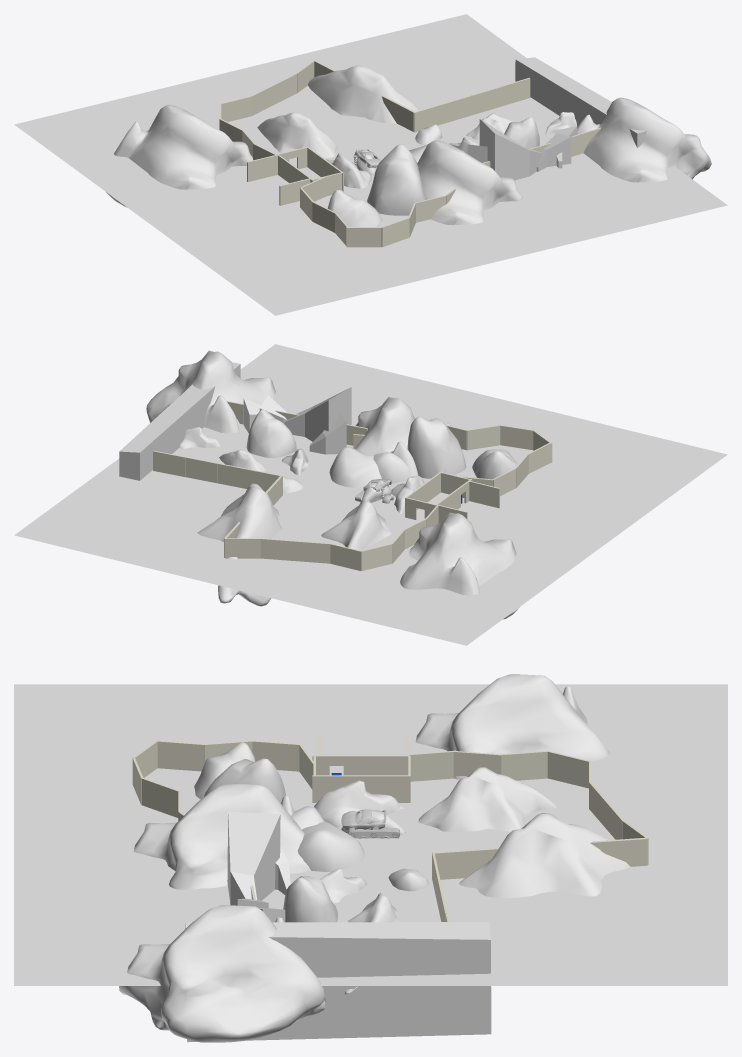
Rendered from MapBlockout.fbx.
3 renders of one model, top to bottom at view 1: azimuth 30°, elevation 25°; view 2: azimuth 150°, elevation 25°; view 3: azimuth 270°, elevation 25°, orthographic. The views are drawn at different scales.
Parts seen in each view (by area): view 1: FLOOR, Cube.025, Cube.007, Cube.016, Cube.020, Cube.012, Cube.023, Cube.024, Cube.009, Cube.018, Cube.013, Wall_400x316 (+15 smaller); view 2: FLOOR, Cube.025, Cube.007, Cube.012, Cube.020, Cube.016, Cube.023, Cube.024, Cube.009, Cube.001, Cube.017, Cube.018 (+16 smaller); view 3: FLOOR, Cube.012, Cube.007, Cube.025, Cube.016, Cube.020, Cube.024, Cube.009, Wall_400x316, Cube.017, Cube.001, Cube.021 (+17 smaller).
Part boxes in pixels (x1,y1,x2,y2): FLOOR: [14, 14, 727, 315]; Cube.025: [106, 104, 252, 207]; Cube.007: [577, 97, 711, 182]; Cube.016: [417, 140, 523, 225]; Cube.020: [308, 65, 419, 123]; Cube.012: [515, 57, 647, 147]; Cube.023: [367, 144, 424, 215]; Cube.024: [257, 112, 338, 158]; Cube.009: [479, 119, 542, 180]; Cube.018: [327, 189, 382, 226]; Cube.013: [536, 133, 571, 171]; Wall_400x316: [314, 60, 414, 131]; FLOOR: [14, 344, 727, 645]; Cube.025: [400, 512, 519, 619]; Cube.007: [146, 350, 275, 433]; Cube.012: [119, 362, 240, 480]; Cube.020: [197, 483, 283, 606]; Cube.016: [355, 397, 450, 476]; Cube.023: [407, 417, 466, 478]; Cube.024: [321, 498, 391, 550]; Cube.009: [284, 387, 351, 441]; Cube.001: [246, 409, 296, 457]; Cube.017: [329, 446, 381, 487]; Cube.018: [472, 449, 517, 479]; FLOOR: [14, 684, 727, 985]; Cube.012: [185, 922, 491, 1042]; Cube.007: [119, 905, 325, 1042]; Cube.025: [415, 674, 609, 779]; Cube.016: [133, 783, 310, 889]; Cube.020: [459, 813, 630, 898]; Cube.024: [418, 767, 556, 831]; Cube.009: [227, 811, 280, 905]; Wall_400x316: [434, 837, 647, 879]; Cube.017: [297, 821, 364, 871]; Cube.001: [283, 876, 337, 922]; Cube.021: [314, 780, 404, 827].
Size of the model in its own units: 80717 by 17139 by 72990.
